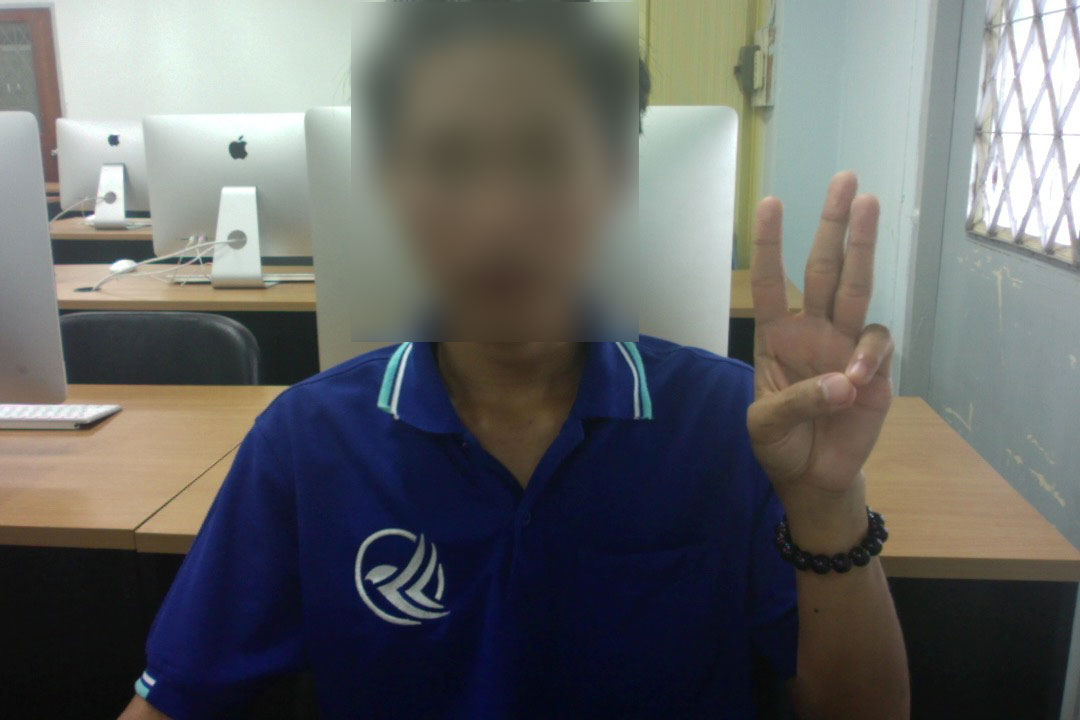wor: (734, 156, 900, 500)
